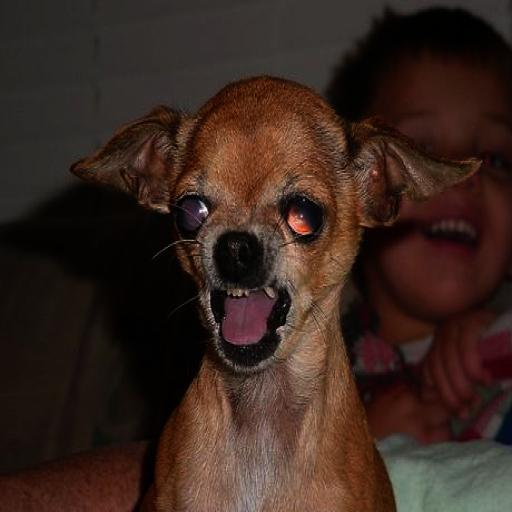dog_face: (79, 69, 480, 386)
